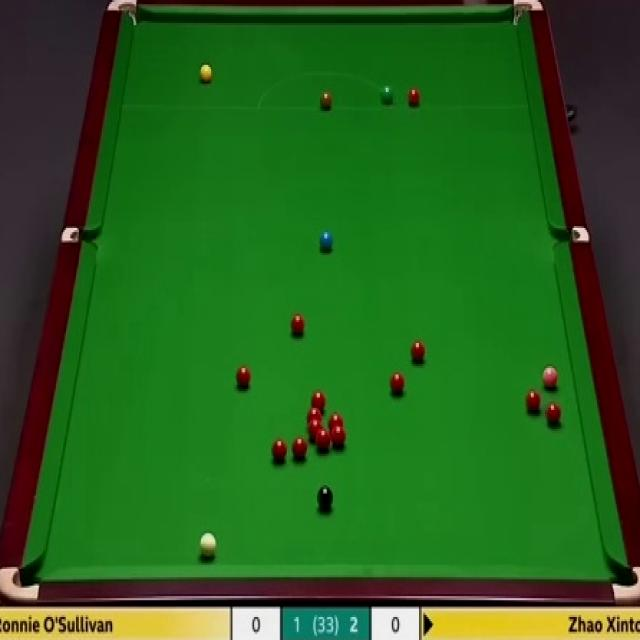black-ball: (317, 483, 333, 514)
blue-ball: (319, 230, 334, 252)
brown-ball: (319, 90, 333, 110)
green-ball: (380, 85, 394, 105)
pink-ball: (542, 364, 558, 391)
red-ball: (291, 434, 308, 464), (235, 364, 252, 392), (270, 437, 287, 463), (544, 401, 562, 425), (524, 390, 542, 414), (389, 372, 405, 397), (411, 338, 426, 364), (331, 425, 346, 450), (290, 314, 306, 337), (316, 428, 330, 451), (310, 390, 326, 408), (407, 87, 421, 107), (308, 420, 322, 440), (306, 406, 322, 423), (329, 415, 343, 428)
white-ball: (198, 531, 217, 562)
yellow-ball: (200, 64, 213, 86)
